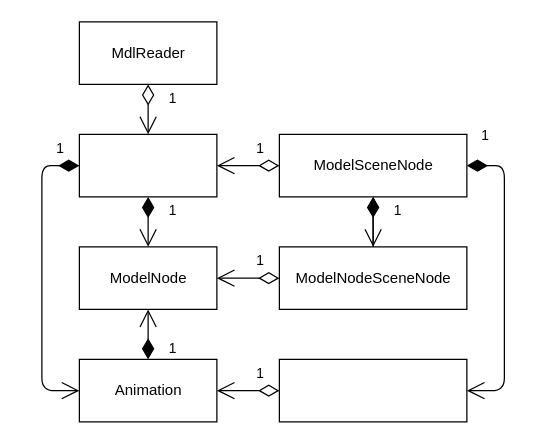
This 548x444 diagram has some shape labels left out. The shapes that lost their labels are listed below. From the top down, each one's centre as x and y in pixels, then its label:
[147,165]: Model
[372,390]: SceneNodeAnimator
